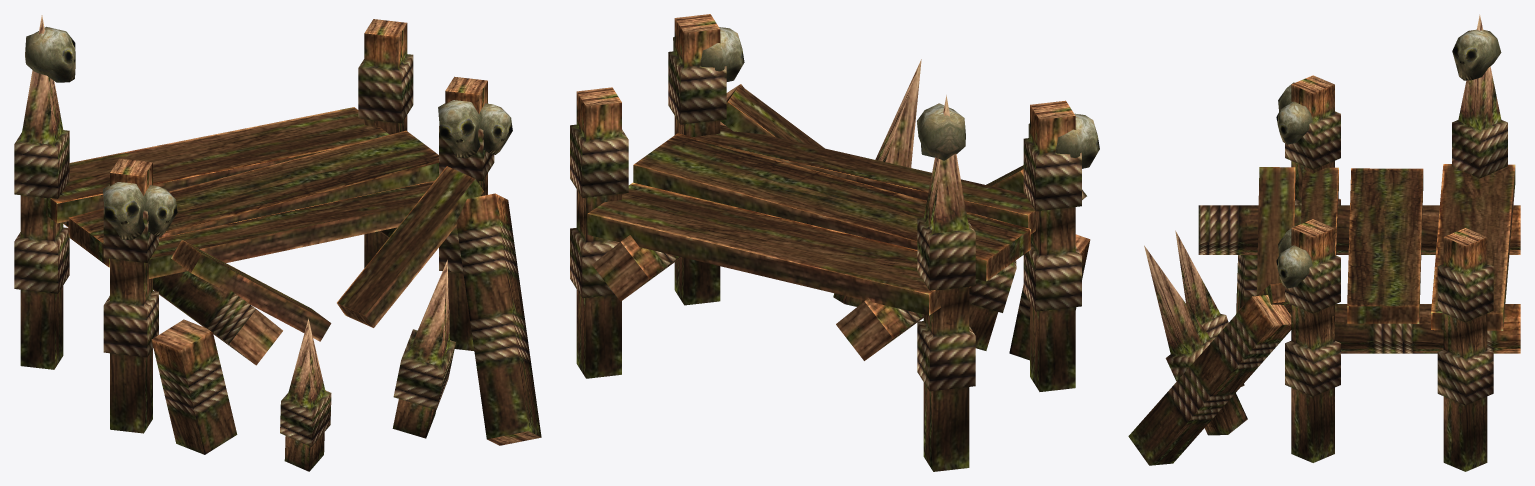
The model's file is WoodBridgeRoad02.FBX.
The picture shows the model from 3 angles, left to right: view 1: azimuth 30°, elevation 25°; view 2: azimuth 150°, elevation 25°; view 3: azimuth 270°, elevation 25°; orthographic projection. The views are drawn at different scales.
Parts seen in each view (by area): view 1: WoodBridgeRoad02; view 2: WoodBridgeRoad02; view 3: WoodBridgeRoad02.
Part boxes in pixels (bbox=[...]): WoodBridgeRoad02: bbox=[14, 15, 541, 471]; WoodBridgeRoad02: bbox=[570, 14, 1099, 471]; WoodBridgeRoad02: bbox=[1128, 14, 1520, 471].
Bounding box in the file's own units: 477 × 423 × 456.
